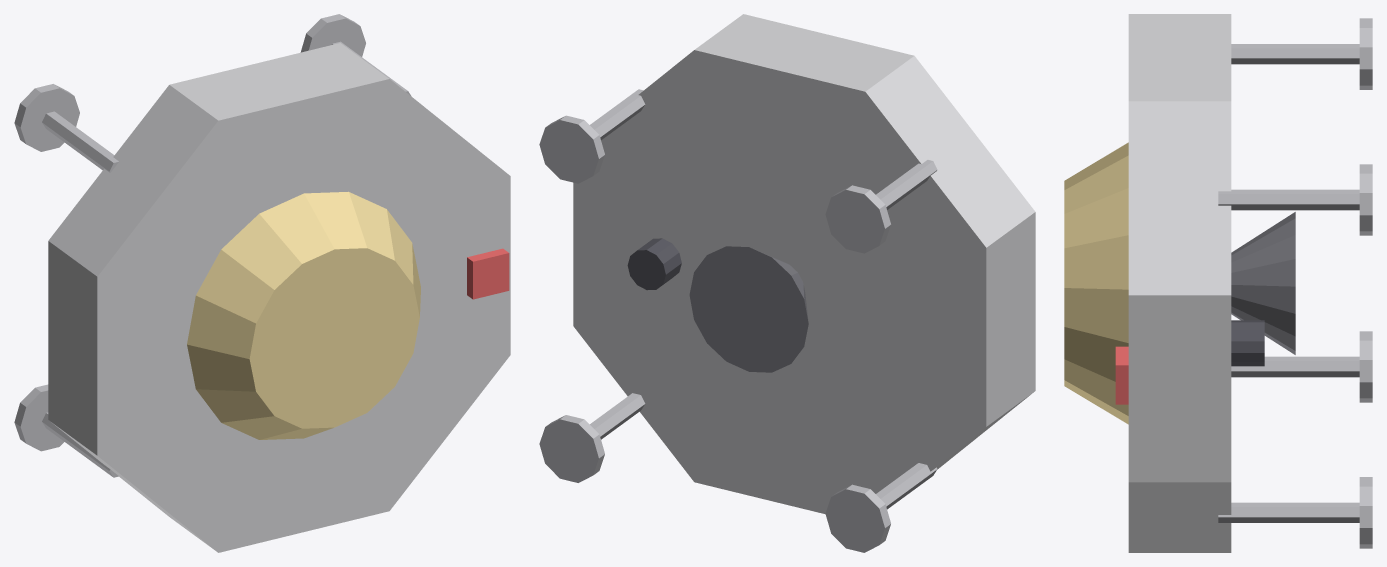
File: drone.gltf
3 views of the same model, side by side, from view 1: azimuth 30°, elevation 25°; view 2: azimuth 150°, elevation 25°; view 3: azimuth 270°, elevation 25° (orthographic). The views are drawn at different scales.
Parts seen in each view (by area): view 1: body, tanks, pad1, forward marker (+X), pad2, pad0, leg1, leg2; view 2: body, engine, pad1, pad0, pad3, pad2, survey camera (-Z), leg1, leg2, leg0, leg3; view 3: body, tanks, engine, leg0, leg3, leg1, leg2, survey camera (-Z), pad0, pad1, pad2, pad3 (+1 smaller).
Boxes of the visible parts, bbox=[...] form: body: bbox=[48, 43, 510, 552]; tanks: bbox=[187, 191, 420, 439]; pad1: bbox=[14, 84, 79, 151]; forward marker (+X): bbox=[467, 248, 509, 299]; pad2: bbox=[14, 384, 64, 451]; pad0: bbox=[300, 14, 365, 56]; leg1: bbox=[42, 111, 118, 172]; leg2: bbox=[42, 412, 118, 477]; body: bbox=[573, 14, 1035, 514]; engine: bbox=[689, 246, 808, 372]; pad1: bbox=[825, 185, 890, 253]; pad0: bbox=[539, 115, 604, 183]; pad3: bbox=[539, 415, 604, 482]; pad2: bbox=[825, 484, 890, 552]; survey camera (-Z): bbox=[627, 238, 681, 290]; leg1: bbox=[876, 160, 937, 209]; leg2: bbox=[876, 463, 937, 509]; leg0: bbox=[590, 89, 645, 140]; leg3: bbox=[590, 393, 645, 439]; body: bbox=[1128, 14, 1231, 552]; tanks: bbox=[1064, 142, 1128, 424]; engine: bbox=[1231, 212, 1295, 354]; leg0: bbox=[1218, 189, 1359, 210]; leg3: bbox=[1218, 502, 1359, 522]; leg1: bbox=[1231, 44, 1359, 64]; leg2: bbox=[1231, 356, 1359, 377]; survey camera (-Z): bbox=[1231, 320, 1264, 366]; pad0: bbox=[1359, 164, 1372, 235]; pad1: bbox=[1359, 18, 1372, 89]; pad2: bbox=[1359, 331, 1372, 402]; pad3: bbox=[1359, 477, 1372, 548].
Size of the model in its own units: 1.94 by 1.94 by 1.2.
